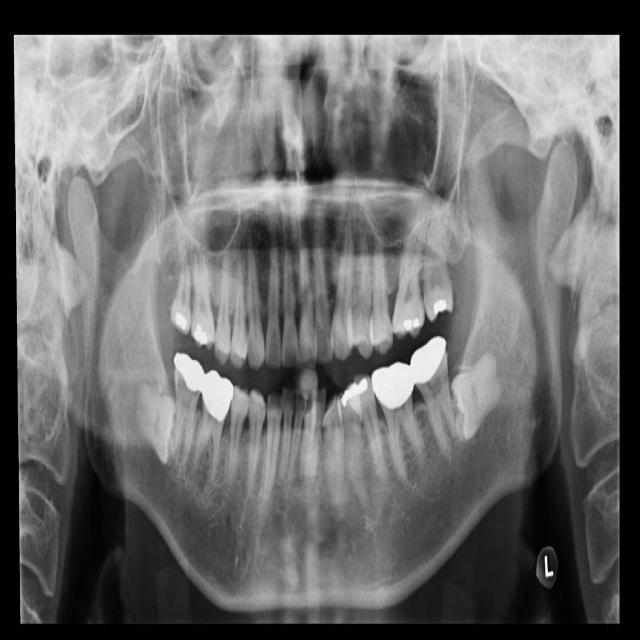52: (367, 359, 422, 415), (403, 331, 454, 388), (198, 369, 236, 427), (415, 279, 462, 325), (390, 297, 426, 343), (174, 353, 204, 403), (338, 383, 366, 435), (348, 373, 376, 418), (188, 309, 217, 352), (168, 303, 192, 336)
73: (587, 570, 598, 578)
BioHorizons Implant: (389, 216, 438, 344)
BioLife Implant: (414, 209, 455, 325)
Biomet 3i Implant: (427, 345, 521, 443)
Blue Sky Bio Implant: (406, 335, 467, 461)
Caries: (169, 238, 191, 336)
Implant: (169, 353, 205, 465)
Keystone Dental Implant: (126, 383, 180, 464)
